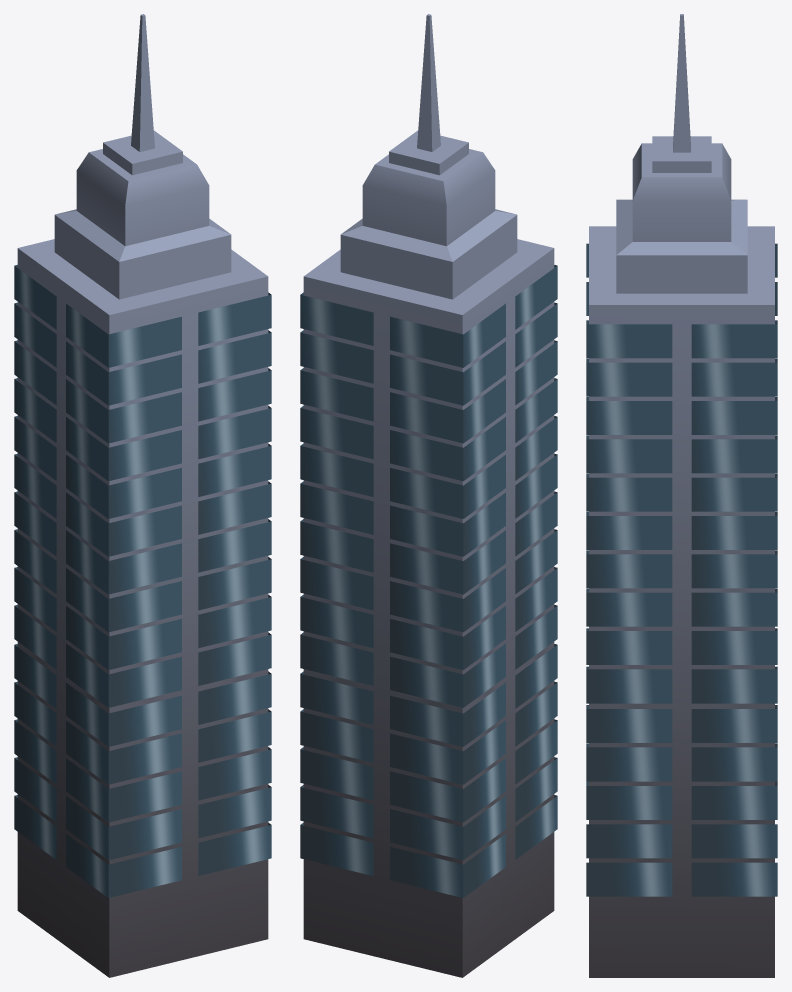
The model's file is apartmenttower2.fbx.
3 views of the same model, side by side, from view 1: azimuth 30°, elevation 25°; view 2: azimuth 150°, elevation 25°; view 3: azimuth 270°, elevation 25° (orthographic).
Parts seen in each view (by area): view 1: polySurface24; view 2: polySurface24; view 3: polySurface24.
Boxes of the visible parts, x1=… form: polySurface24: x1=14, y1=14, x2=271, y2=977; polySurface24: x1=300, y1=14, x2=557, y2=977; polySurface24: x1=586, y1=14, x2=777, y2=977.
Size of the model in its own units: 24.6 by 131 by 24.6.
